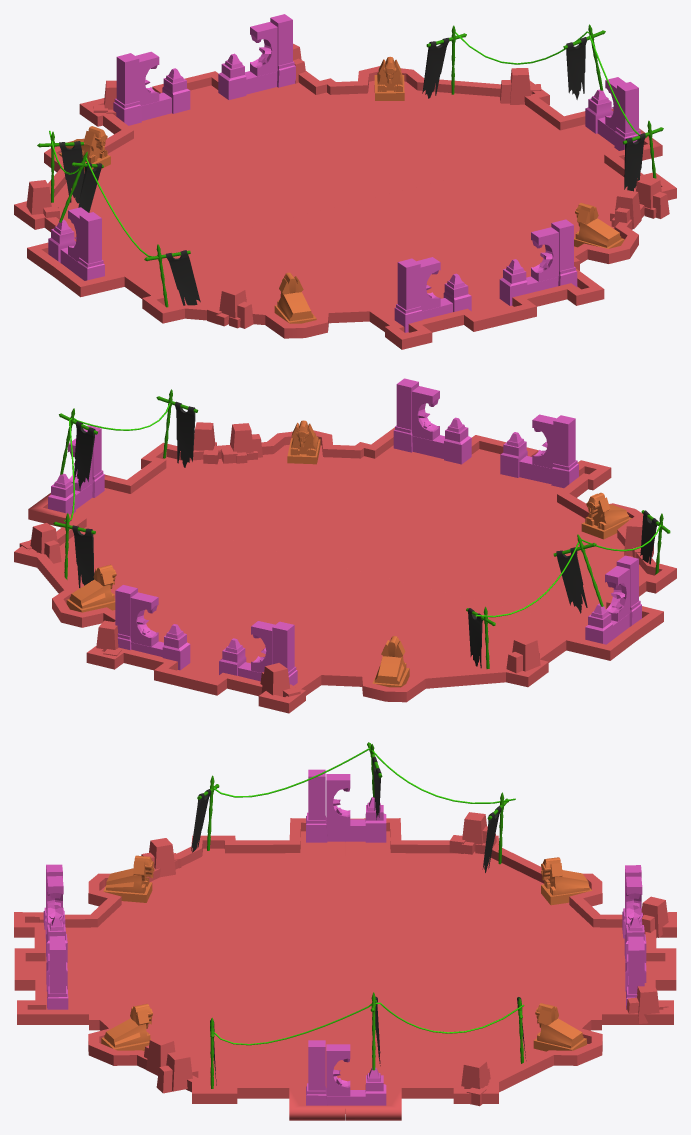
File: mapa.fbx
3 views of the same model, one above another, from view 1: azimuth 30°, elevation 25°; view 2: azimuth 150°, elevation 25°; view 3: azimuth 270°, elevation 25° (orthographic). The views are drawn at different scales.
Parts seen in each view (by area): view 1: F_podstawa, F_mór.004, F_mór.005, F_mór.002, F_mór.003, F_mór.001, F_mór, F_sfinks.001, F_sztandar.001, F_kamień.003, F_sfinks, F_sztandar.003 (+11 smaller); view 2: F_podstawa, F_mór.002, F_mór.003, F_mór.004, F_mór.001, F_mór.005, F_mór, F_sfinks.003, F_sztandar.002, F_sfinks, F_sztandar, F_sztandard.001 (+12 smaller); view 3: F_podstawa, F_mór.001, F_mór, F_sfinks.003, F_sfinks, F_sfinks.002, F_sfinks.001, F_mór.005, F_mór.003, F_mór.002, F_kamień.004, F_kamień.006 (+10 smaller).
Part boxes in pixels (x1,y1,x2,y2): F_podstawa: [14, 66, 676, 349]; F_mór.004: [218, 14, 295, 99]; F_mór.005: [113, 51, 190, 125]; F_mór.002: [499, 219, 577, 305]; F_mór.003: [394, 257, 471, 332]; F_mór.001: [48, 207, 104, 280]; F_mór: [585, 77, 640, 150]; F_sfinks.001: [574, 202, 624, 248]; F_sztandar.001: [144, 244, 200, 307]; F_kamień.003: [207, 285, 253, 328]; F_sfinks: [274, 272, 316, 323]; F_sztandar.003: [563, 24, 605, 99]; F_podstawa: [14, 427, 676, 713]; F_mór.002: [393, 378, 471, 464]; F_mór.003: [500, 414, 578, 488]; F_mór.004: [115, 585, 190, 670]; F_mór.001: [585, 555, 641, 644]; F_mór.005: [219, 621, 297, 685]; F_mór: [48, 425, 104, 514]; F_sfinks.003: [66, 564, 116, 612]; F_sztandar.002: [553, 534, 603, 613]; F_sfinks: [581, 492, 631, 539]; F_sztandar: [156, 389, 198, 467]; F_sztandard.001: [53, 513, 95, 587]; F_podstawa: [14, 818, 676, 1120]; F_mór.001: [306, 769, 386, 842]; F_mór: [306, 1040, 386, 1105]; F_sfinks.003: [533, 1003, 586, 1051]; F_sfinks: [103, 855, 154, 902]; F_sfinks.002: [541, 857, 592, 905]; F_sfinks.001: [101, 1003, 152, 1050]; F_mór.005: [622, 865, 646, 962]; F_mór.003: [43, 864, 67, 962]; F_mór.002: [46, 936, 68, 1009]; F_kamień.004: [449, 812, 496, 854]; F_kamień.006: [156, 1050, 198, 1093].
Size of the model in its own units: 6086 by 1107 by 5838.
